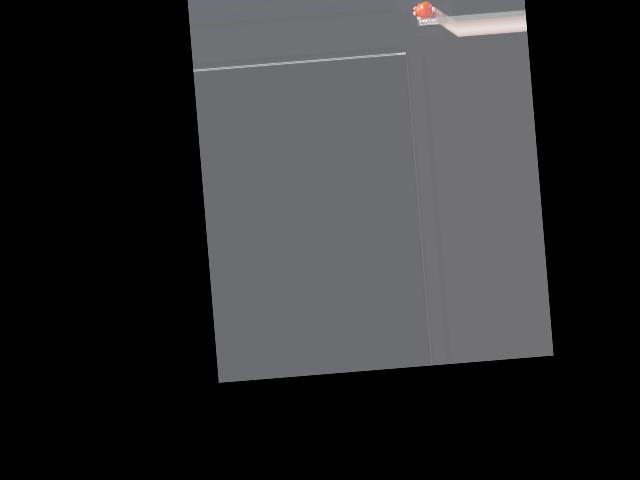tomato: (414, 0, 433, 19)
